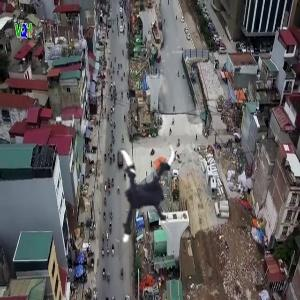drone: (82, 131, 197, 246)
